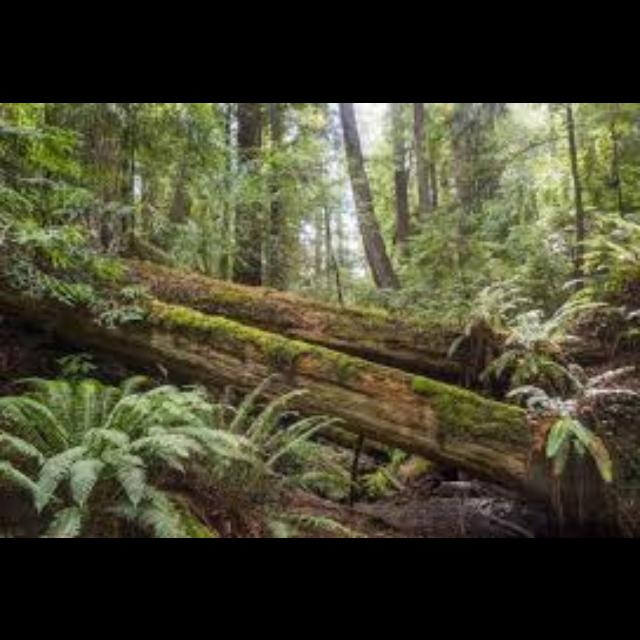Fallen Tree: (95, 349, 640, 495), (136, 256, 554, 386)
